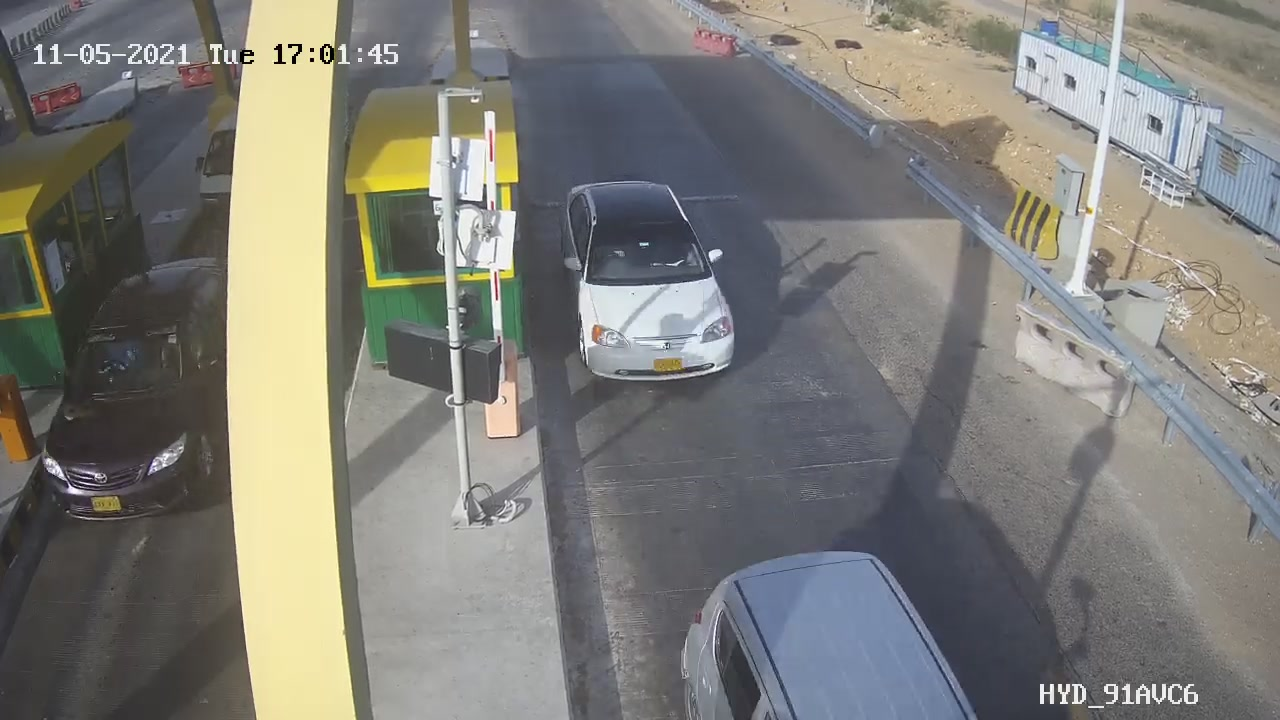F1: (539, 166, 757, 404)
